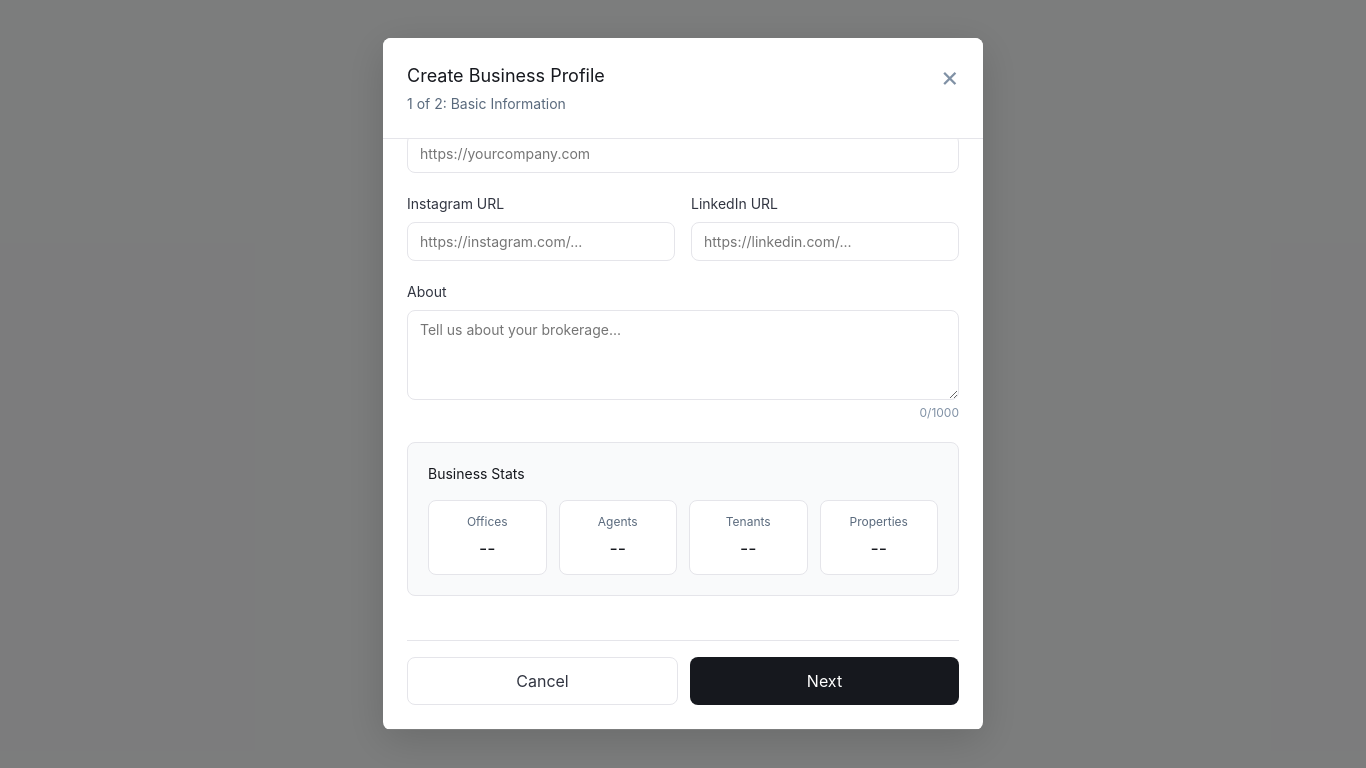
it: BusinessProfileModal › Step 1: Basic Information › should validate required fields on Next click
(page scrolled)
Click the button "Next" at (824, 681), box 690,657 -> 959,705
(page scrolled)
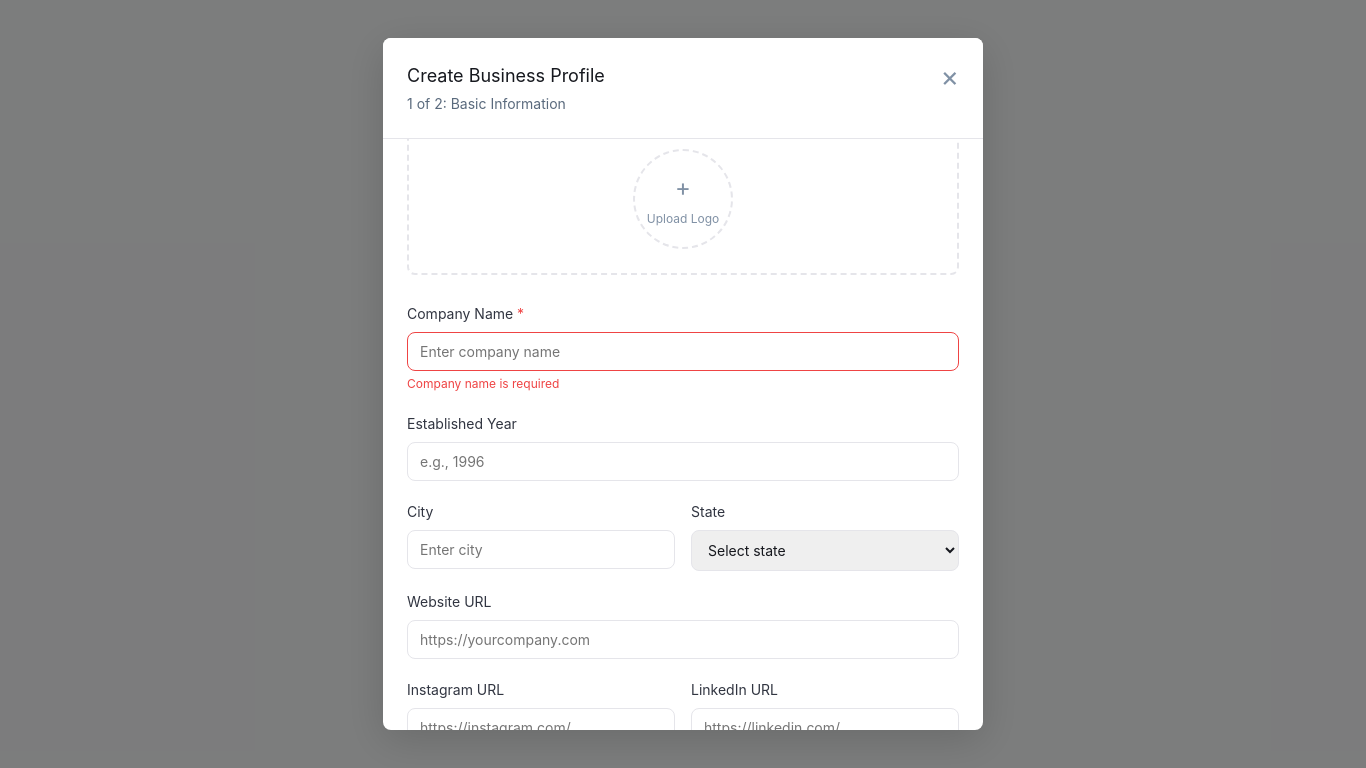
Result: the text "Company name is required" is shown at 407,376 -> 559,391
